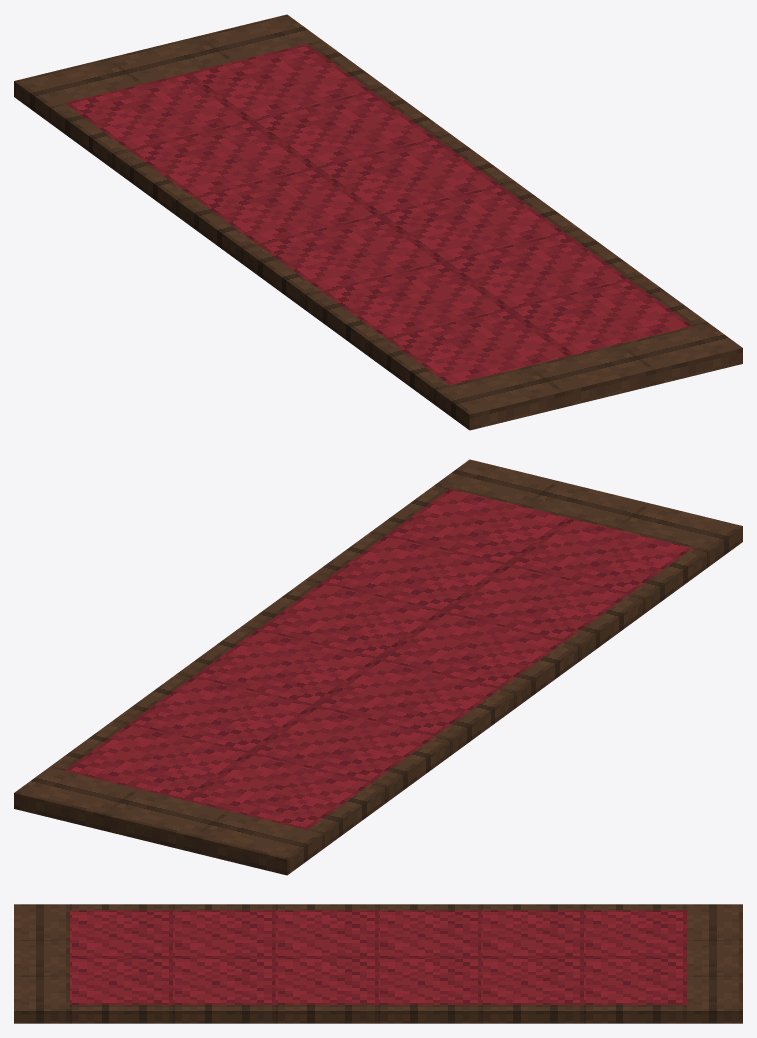
File: arcadeCarpetRunner_0.glb
3 renders of one model, top to bottom at view 1: azimuth 30°, elevation 25°; view 2: azimuth 150°, elevation 25°; view 3: azimuth 270°, elevation 25°, orthographic. The views are drawn at different scales.
Visible parts, largest first — view 1: arcadeCarpetRunner_0; view 2: arcadeCarpetRunner_0; view 3: arcadeCarpetRunner_0.
Boxes of the visible parts, box(x1,y1,x2,y2) form: arcadeCarpetRunner_0: box(14, 14, 742, 430); arcadeCarpetRunner_0: box(14, 459, 742, 875); arcadeCarpetRunner_0: box(14, 904, 742, 1023).
Bounding box in the file's own units: 1.12 × 0.0625 × 3.25.
1 material, 1 textured.
